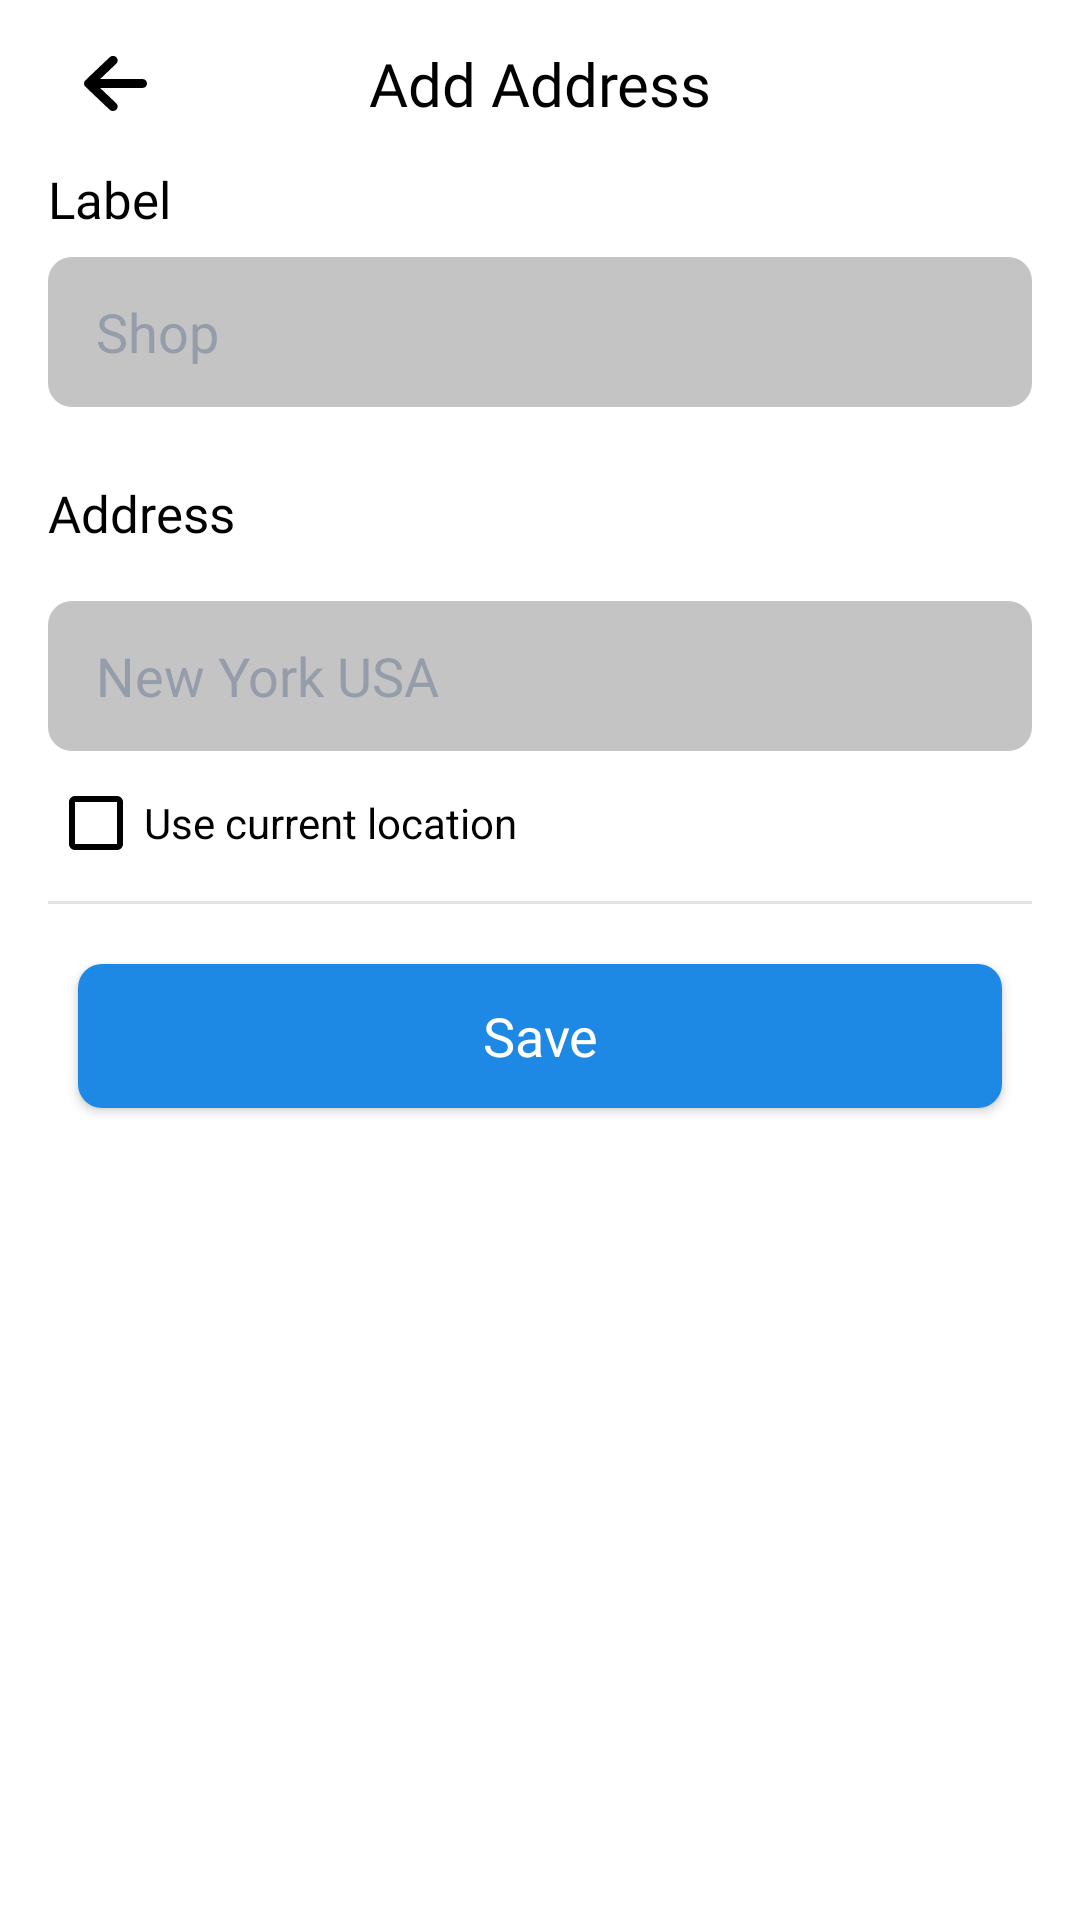

Screen size 1080 × 1920. Icon name, then its box in pixels as (x1, y1, x2, y2):
backpress: (84, 56, 147, 111)
